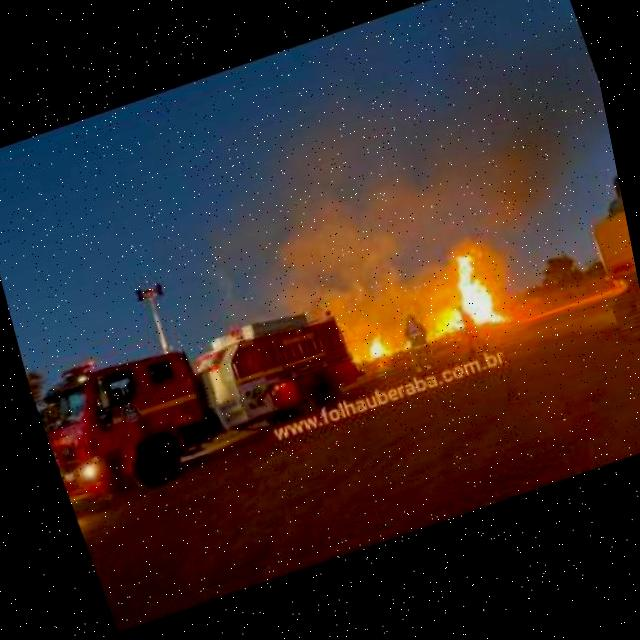fire: (230, 4, 630, 304), (408, 241, 512, 347), (355, 331, 388, 364)
